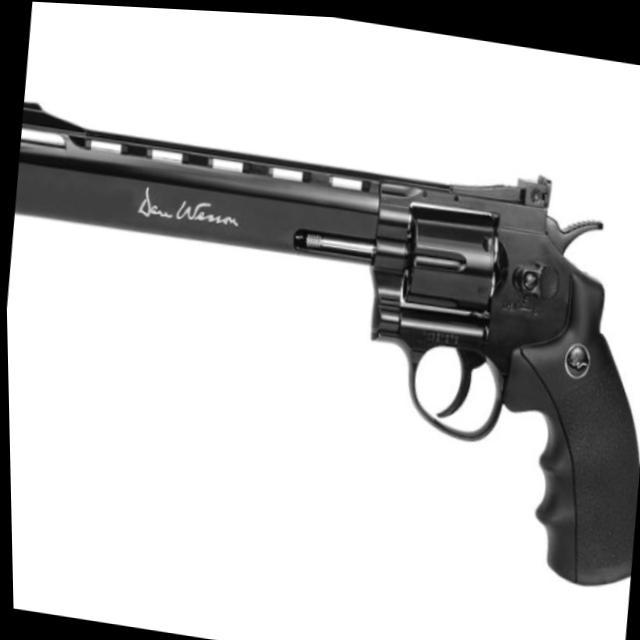weapon: (2, 91, 640, 586)
